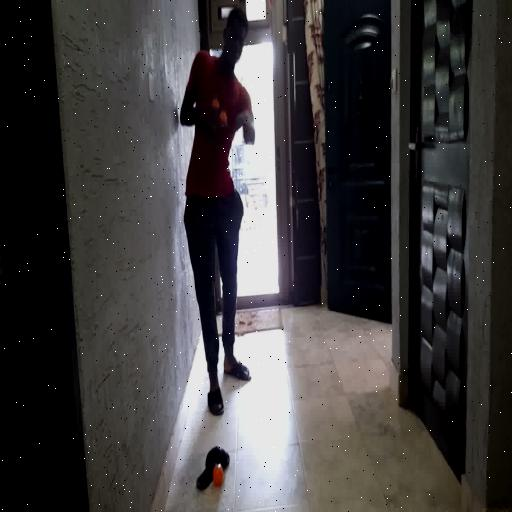plastic-ball: (212, 462, 223, 488)
